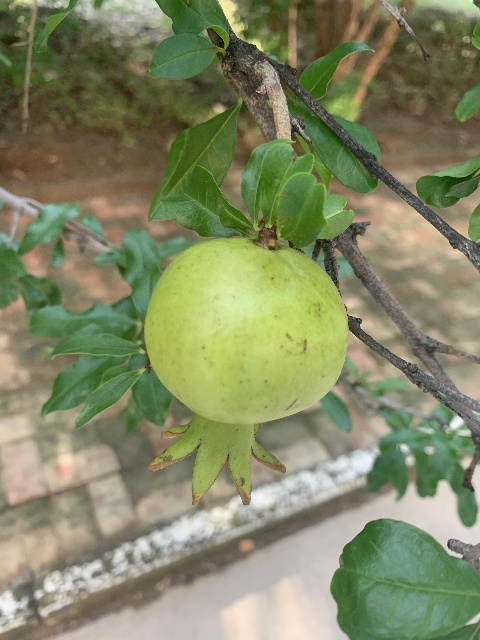mid-growth: (143, 238, 349, 509)
